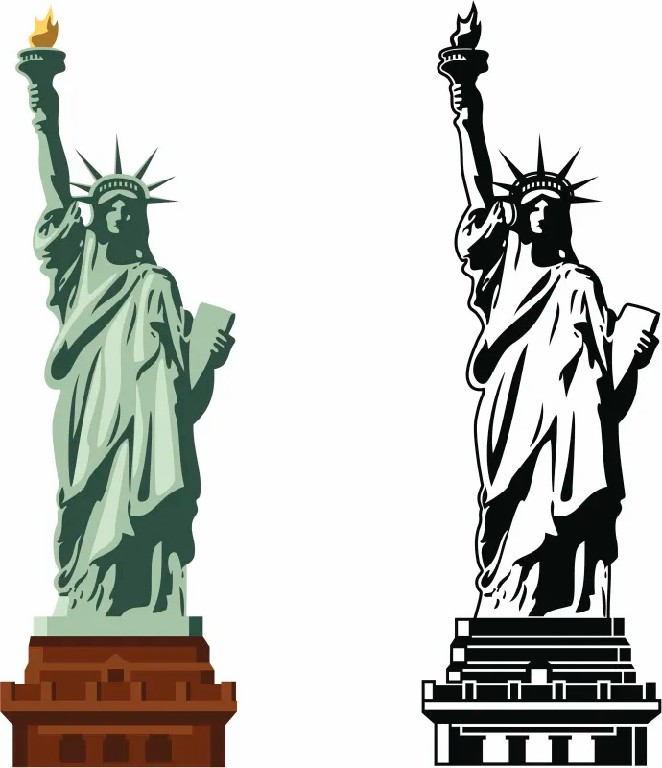SL: (422, 1, 662, 768), (1, 5, 238, 768)
